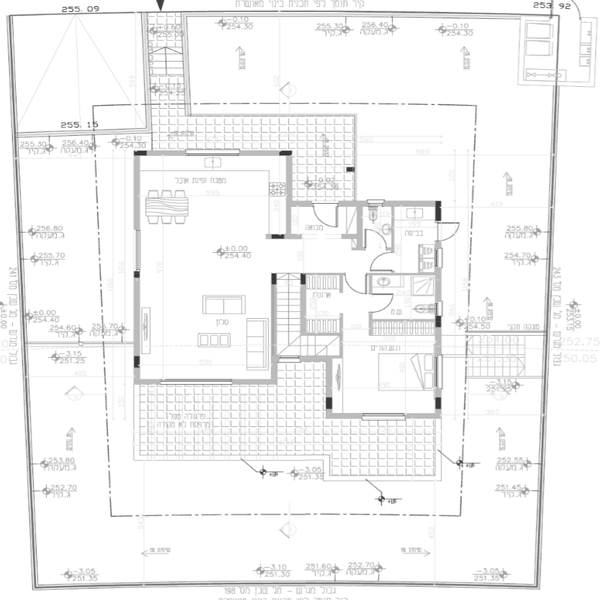door: (308, 198, 343, 229), (367, 291, 401, 318), (342, 271, 373, 298), (436, 221, 466, 247), (362, 225, 387, 251)
room: (128, 147, 283, 391), (324, 315, 447, 423), (265, 270, 344, 372), (360, 200, 446, 277), (277, 269, 347, 363), (285, 199, 369, 276)
wall: (267, 276, 280, 387), (131, 273, 143, 384), (127, 156, 144, 229), (127, 230, 153, 272), (238, 141, 292, 160), (284, 159, 295, 233), (323, 357, 335, 422), (372, 315, 436, 327), (131, 148, 187, 161), (231, 375, 275, 391), (390, 207, 402, 254), (385, 201, 441, 211), (411, 407, 445, 423), (300, 274, 308, 337), (325, 411, 365, 423), (335, 312, 344, 363), (306, 269, 347, 280), (433, 327, 447, 358), (355, 207, 365, 248), (431, 270, 445, 299), (366, 272, 432, 278), (300, 354, 336, 364), (340, 200, 365, 210), (367, 313, 377, 338), (288, 198, 314, 207), (337, 275, 345, 293), (340, 231, 357, 236)
window: (189, 144, 238, 161), (367, 408, 406, 428), (427, 356, 447, 389), (167, 379, 230, 388)
